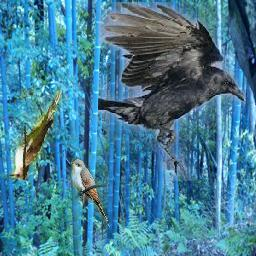Crow: (98, 3, 246, 182)
Cuckoo: (10, 88, 63, 180), (72, 158, 111, 228)
